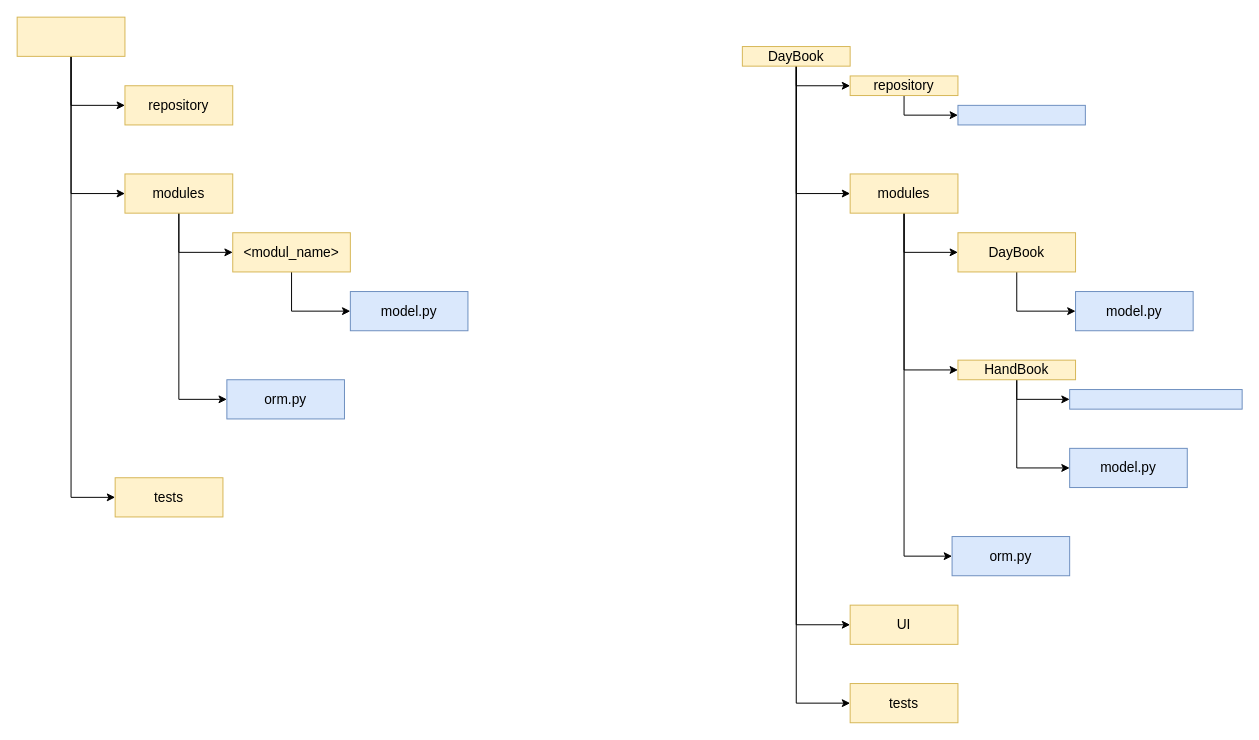
Image size: 1259x740. Some labels were removed from this diagram. Each missing label, with the centre of its shape:
"Project" goes at point (70, 36).
"TaskRepository.py" goes at point (1021, 114).
"widget_under_task.py" goes at point (1155, 399).
